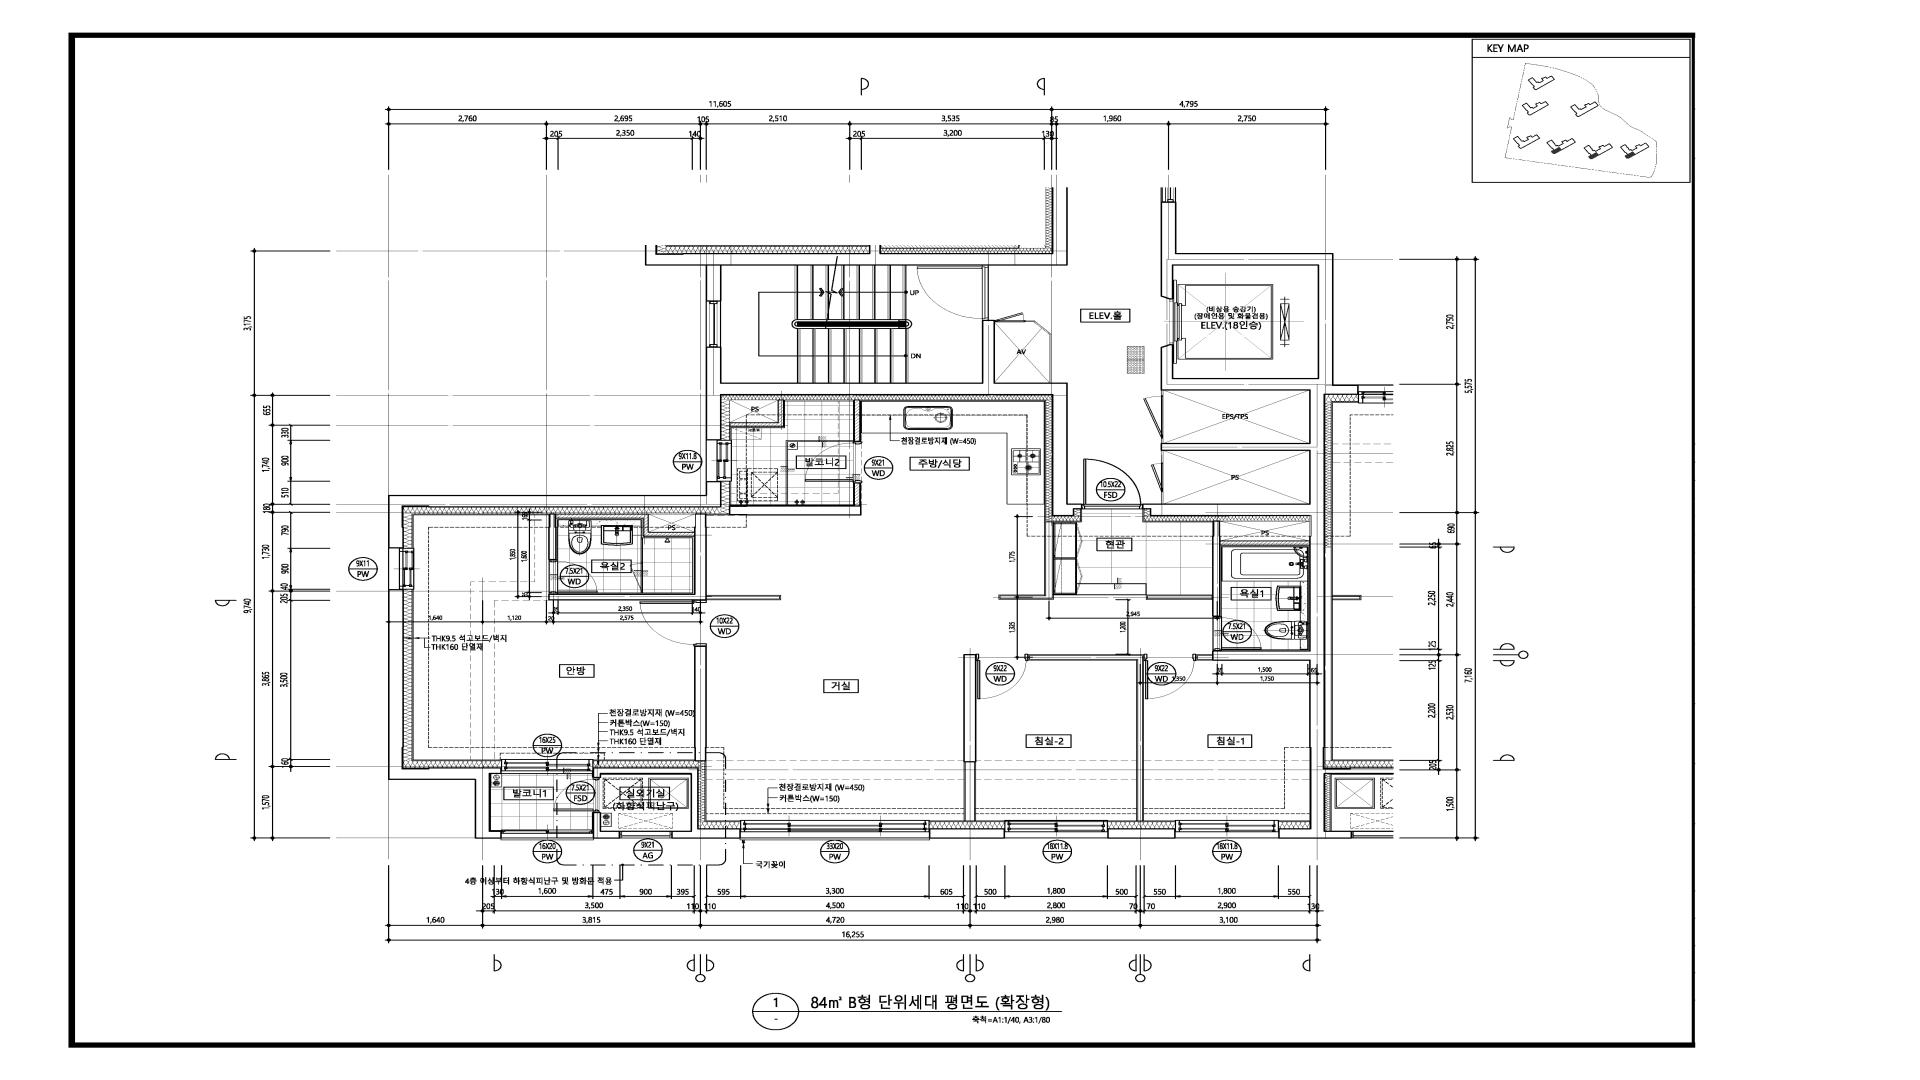background: (0, 0, 1920, 1080)
door: (916, 265, 989, 320), (640, 601, 707, 647), (1083, 459, 1142, 510), (976, 654, 1029, 700), (1143, 654, 1196, 700), (794, 450, 851, 489), (1212, 617, 1262, 651), (556, 562, 599, 601), (554, 779, 600, 814), (630, 539, 644, 593), (994, 313, 1026, 322)
wall: (1142, 202, 1360, 839), (705, 319, 1083, 517), (645, 187, 1068, 301), (388, 589, 501, 840), (388, 483, 721, 547), (549, 514, 781, 601), (1029, 655, 1143, 820), (1146, 521, 1309, 617), (593, 769, 741, 840), (998, 522, 1054, 600), (964, 655, 977, 822), (721, 397, 785, 429), (1025, 320, 1052, 382), (694, 647, 707, 762), (721, 489, 851, 500), (592, 812, 620, 840), (930, 829, 1005, 839), (839, 397, 851, 450), (1108, 829, 1175, 839), (1196, 655, 1212, 661)
window: (740, 820, 930, 841), (1175, 820, 1279, 839), (1005, 820, 1108, 839), (501, 760, 593, 775), (388, 549, 414, 589), (501, 832, 593, 841), (705, 301, 721, 347), (704, 442, 721, 483), (620, 832, 671, 841)
